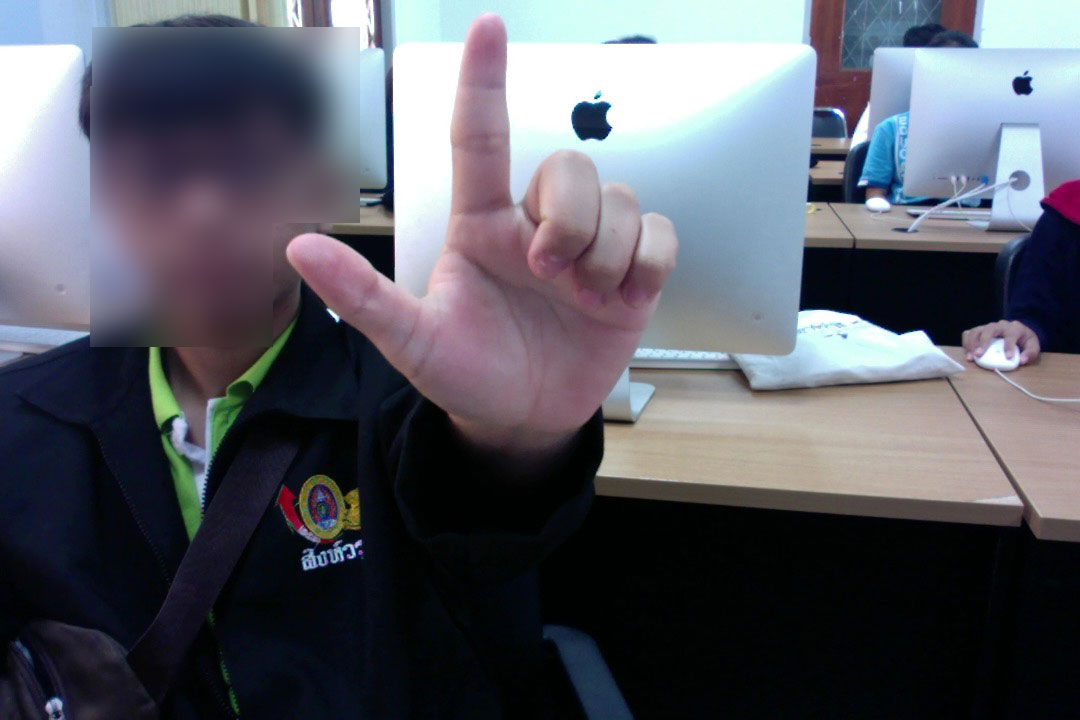lor: (273, 7, 698, 534)
